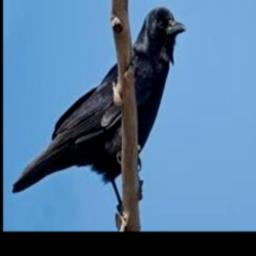Crow: (11, 5, 185, 204)
